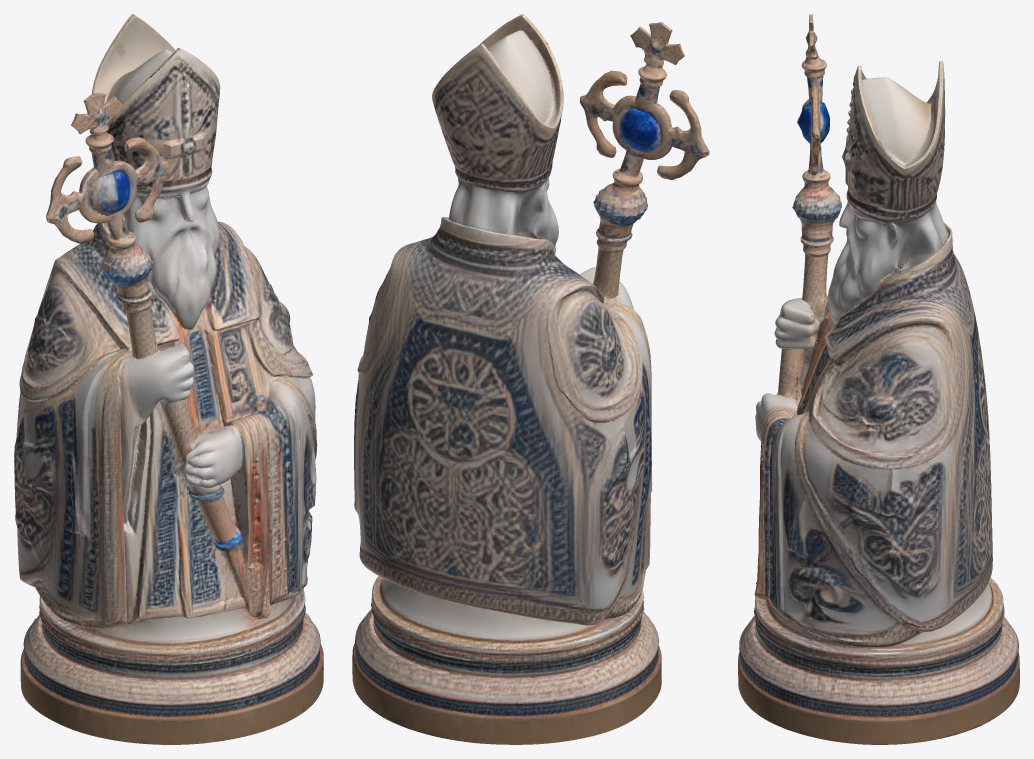
Rendered from bishop_white.glb.
The picture shows the model from 3 angles, left to right: view 1: azimuth 30°, elevation 25°; view 2: azimuth 150°, elevation 25°; view 3: azimuth 270°, elevation 25°; orthographic projection. The views are drawn at different scales.
Visible parts, largest first — view 1: model; view 2: model; view 3: model.
Boxes of the visible parts, left/top/right/bottom form: model: left=14, top=14, right=323, bottom=744; model: left=352, top=14, right=709, bottom=744; model: left=738, top=14, right=1019, bottom=744.
Bounding box in the file's own units: 0.9045 × 1.9 × 0.7832.
1 material, 1 textured.
